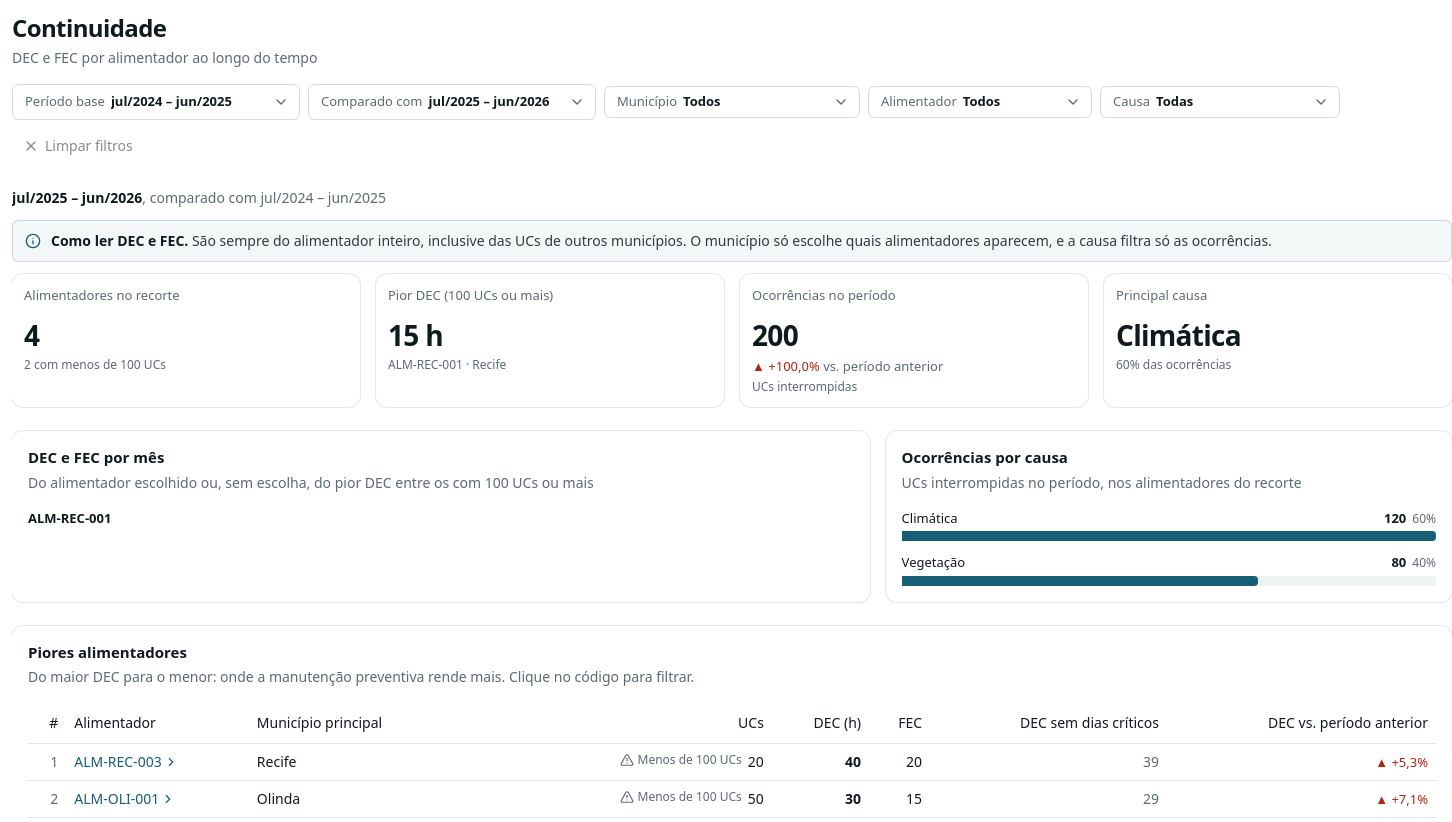
Test: clicar num alimentador do ranking filtra a tela por ele, mesmo pequeno
Click the button "ALM-REC-003": [126, 762] box [74,752,178,772]
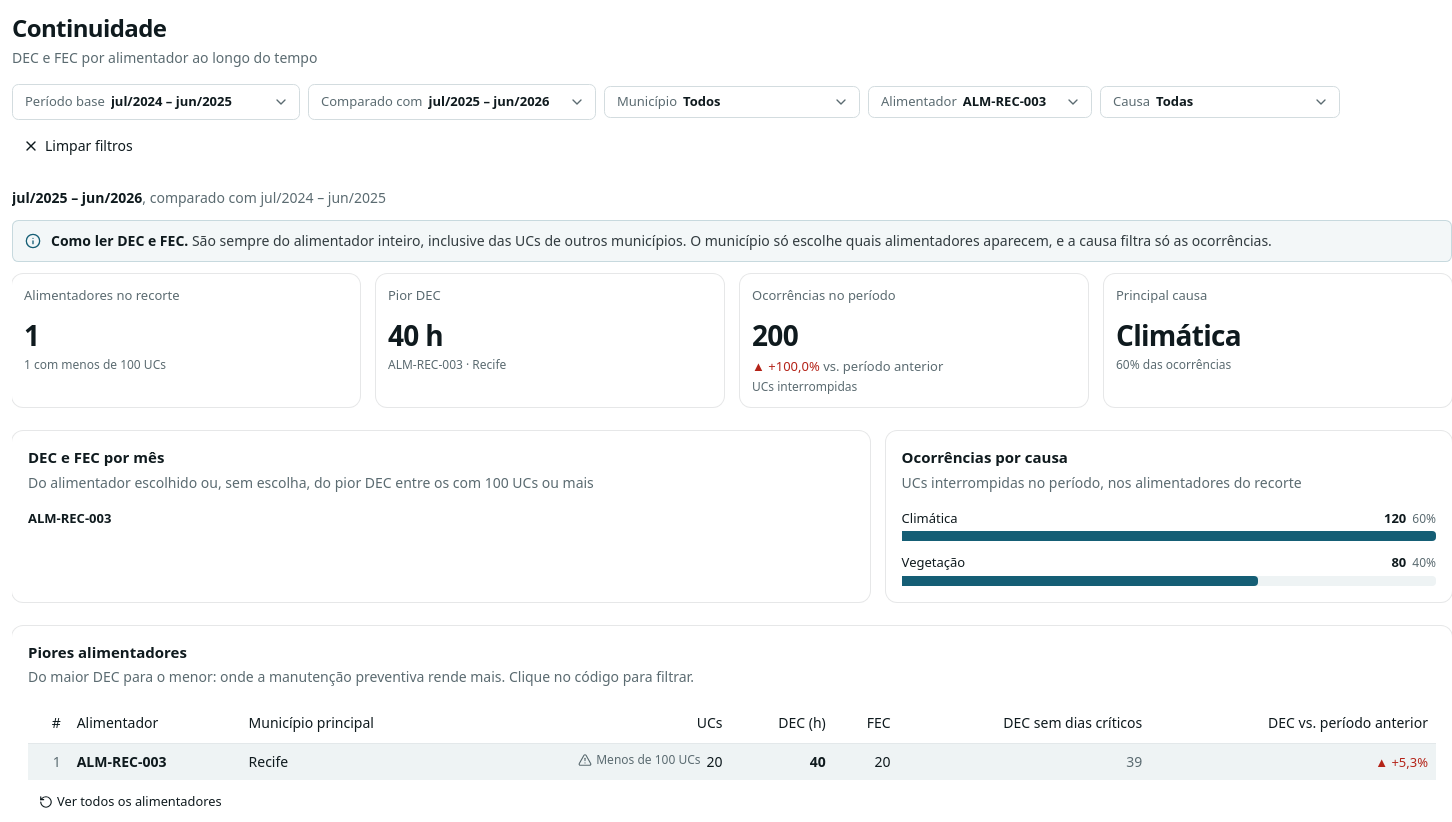
Check: the text "Pior DEC" is shown, box [388,286,441,304]
Check: the text "ALM-REC-003" below "DEC e FEC por mês" is shown, box [28,508,111,526]
